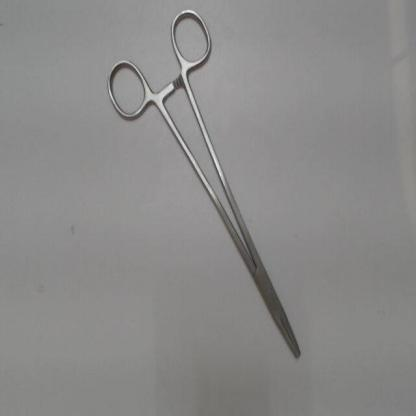8 Mayo Needle Holder: (101, 2, 311, 374)
